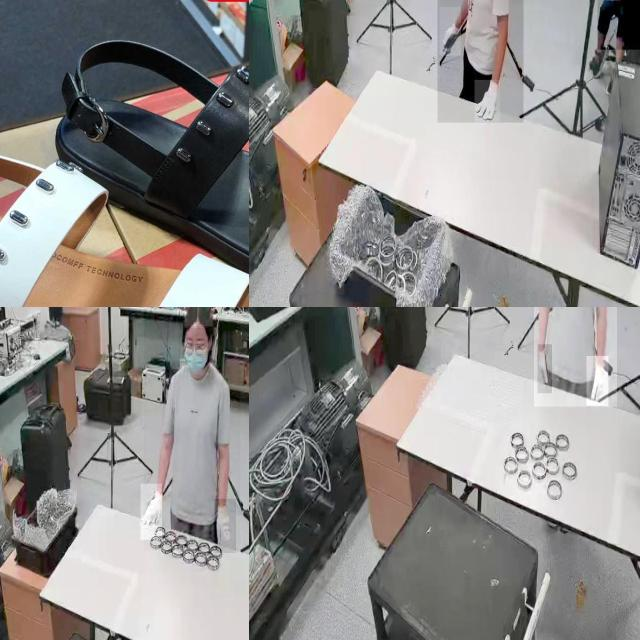Sandals: (49, 23, 249, 302), (0, 126, 249, 307)
face_mask: (184, 328, 210, 373), (587, 356, 609, 406), (538, 344, 552, 394)
hand_glove: (214, 499, 237, 554), (140, 484, 162, 540), (439, 7, 462, 57), (474, 80, 500, 122)
head_nohelmet: (184, 307, 213, 327)
person: (144, 307, 241, 551), (437, 0, 524, 123), (534, 307, 617, 407)
